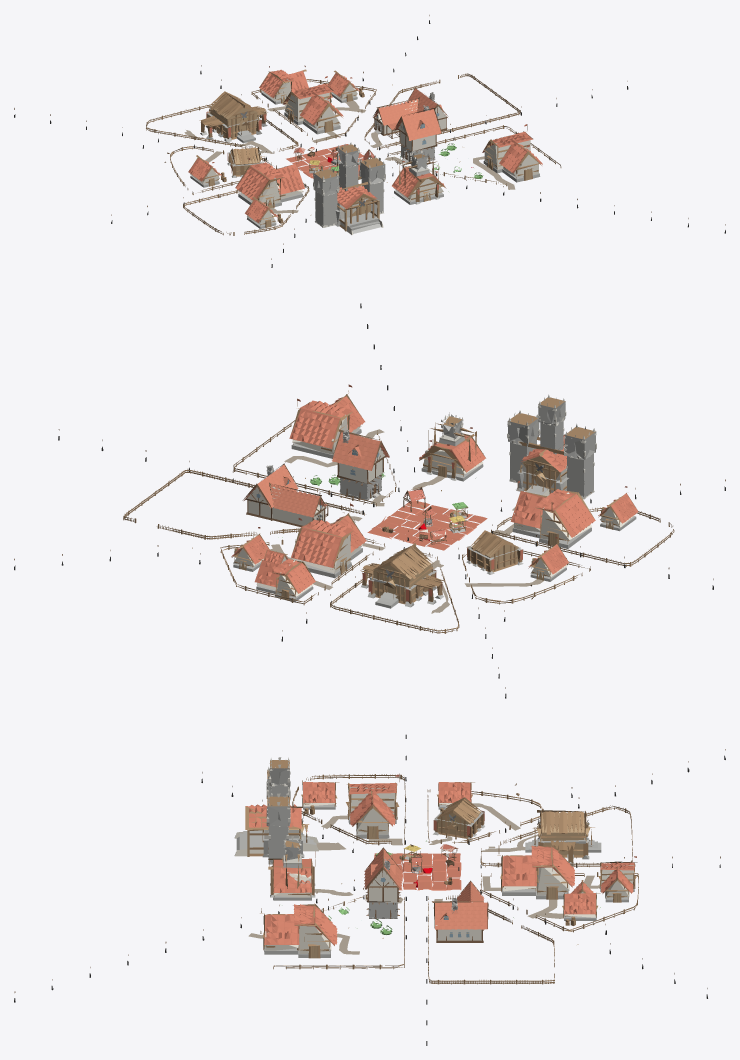
Rendered from chunk_1_1_lod2.glb.
3 renders of one model, top to bottom at view 1: azimuth 30°, elevation 25°; view 2: azimuth 150°, elevation 25°; view 3: azimuth 270°, elevation 25°, orthographic. The views are drawn at different scales.
Parts seen in each view (by area): view 1: Batched_chunk_1_1_lod2; view 2: Batched_chunk_1_1_lod2; view 3: Batched_chunk_1_1_lod2.
Part boxes in pixels (bbox=[...]): Batched_chunk_1_1_lod2: bbox=[14, 15, 725, 267]; Batched_chunk_1_1_lod2: bbox=[14, 303, 725, 698]; Batched_chunk_1_1_lod2: bbox=[14, 734, 725, 1045].
Size of the model in its own units: 173 by 26.46 by 169.
